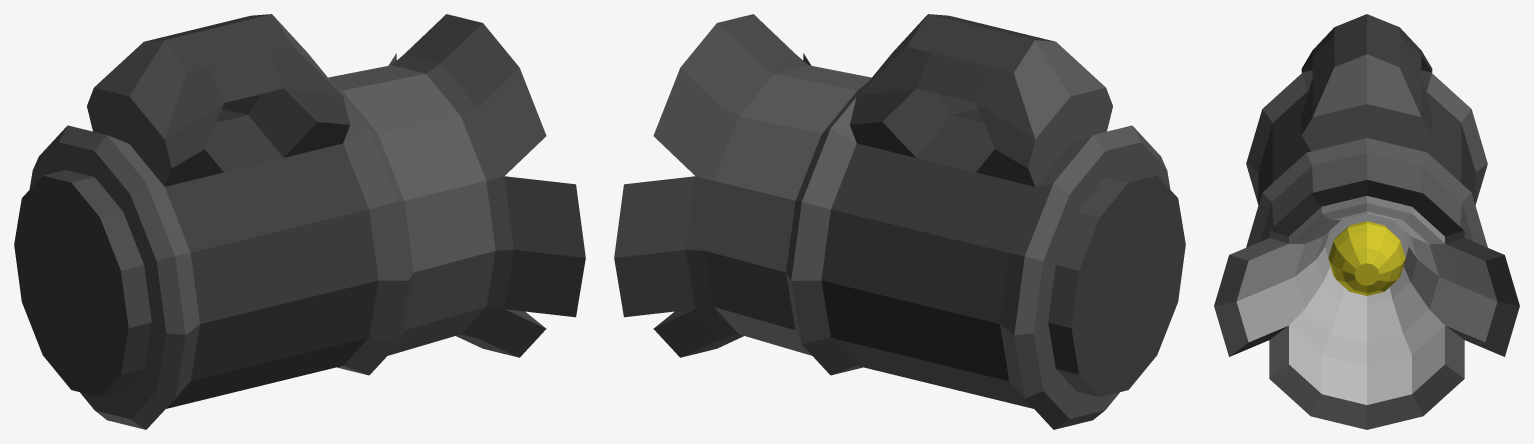
The model's file is Stage Light Suspended.fbx.
3 renders of one model, left to right at view 1: azimuth 30°, elevation 25°; view 2: azimuth 150°, elevation 25°; view 3: azimuth 270°, elevation 25°, orthographic. The views are drawn at different scales.
Visible parts, largest first — view 1: Stage Light Suspended; view 2: Stage Light Suspended; view 3: Stage Light Suspended.
Part boxes in pixels (bbox=[...]): Stage Light Suspended: bbox=[14, 14, 585, 429]; Stage Light Suspended: bbox=[614, 14, 1185, 429]; Stage Light Suspended: bbox=[1214, 14, 1519, 429].
Bounding box in the file's own units: 914 × 813 × 760.
